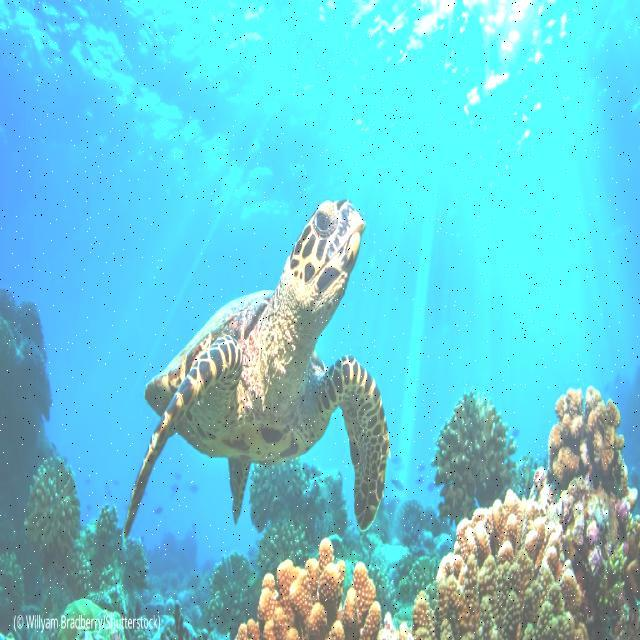tortoise: (123, 195, 393, 532)
